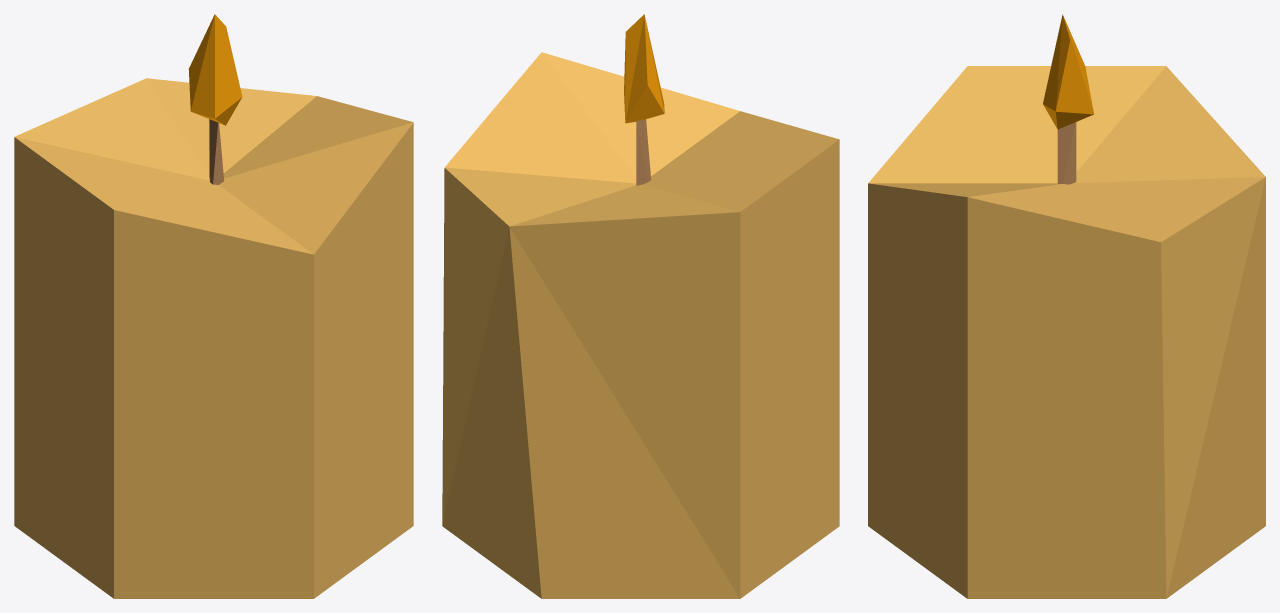
Rendered from Candle_01.fbx.
The picture shows the model from 3 angles, left to right: view 1: azimuth 30°, elevation 25°; view 2: azimuth 150°, elevation 25°; view 3: azimuth 270°, elevation 25°; orthographic projection.
Visible parts, largest first — view 1: Candle_01; view 2: Candle_01; view 3: Candle_01.
Boxes of the visible parts, box(x1,y1,x2,y2) form: Candle_01: box(14, 14, 413, 598); Candle_01: box(442, 14, 839, 598); Candle_01: box(868, 14, 1265, 598).
Size of the model in its own units: 11.14 by 18.22 by 12.84.
